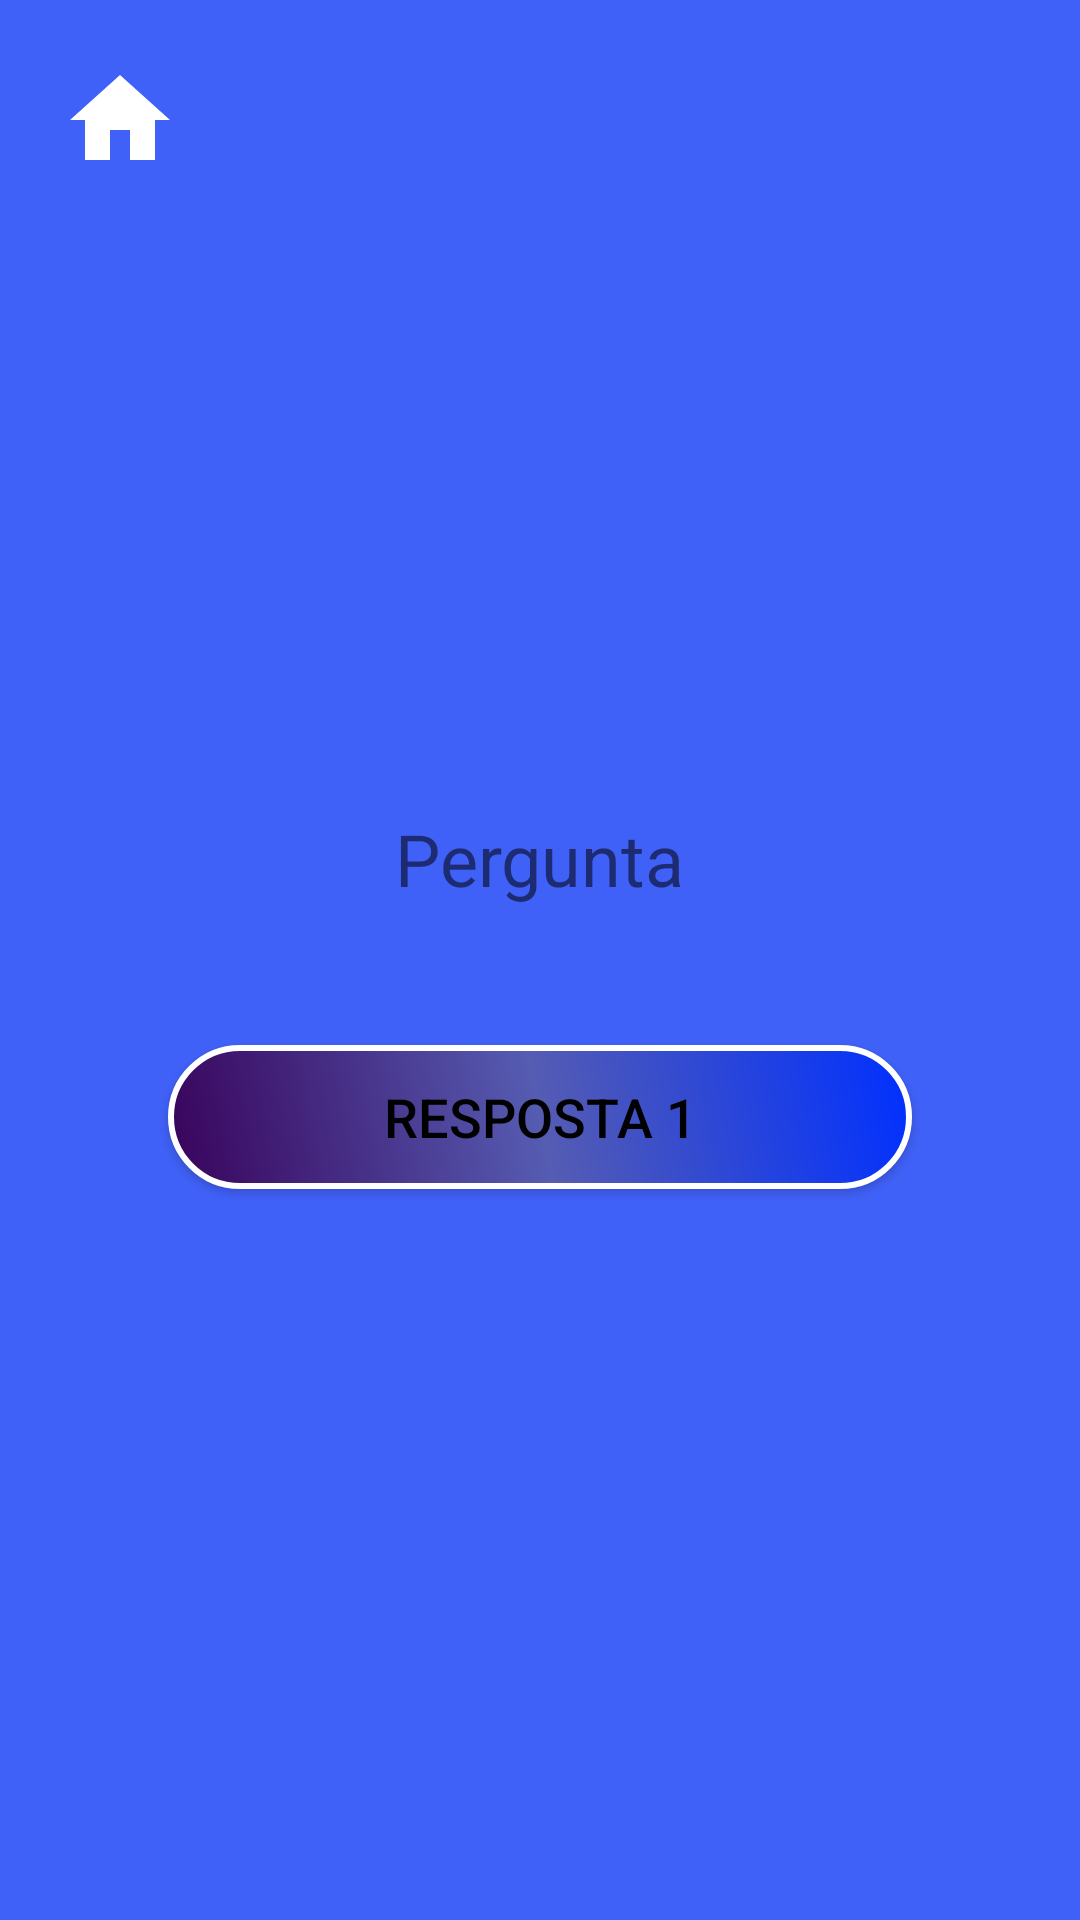

Named icons in this screenshot (1080w x 1920h) and their centers, (x,y):
homeblack: (120,117)
